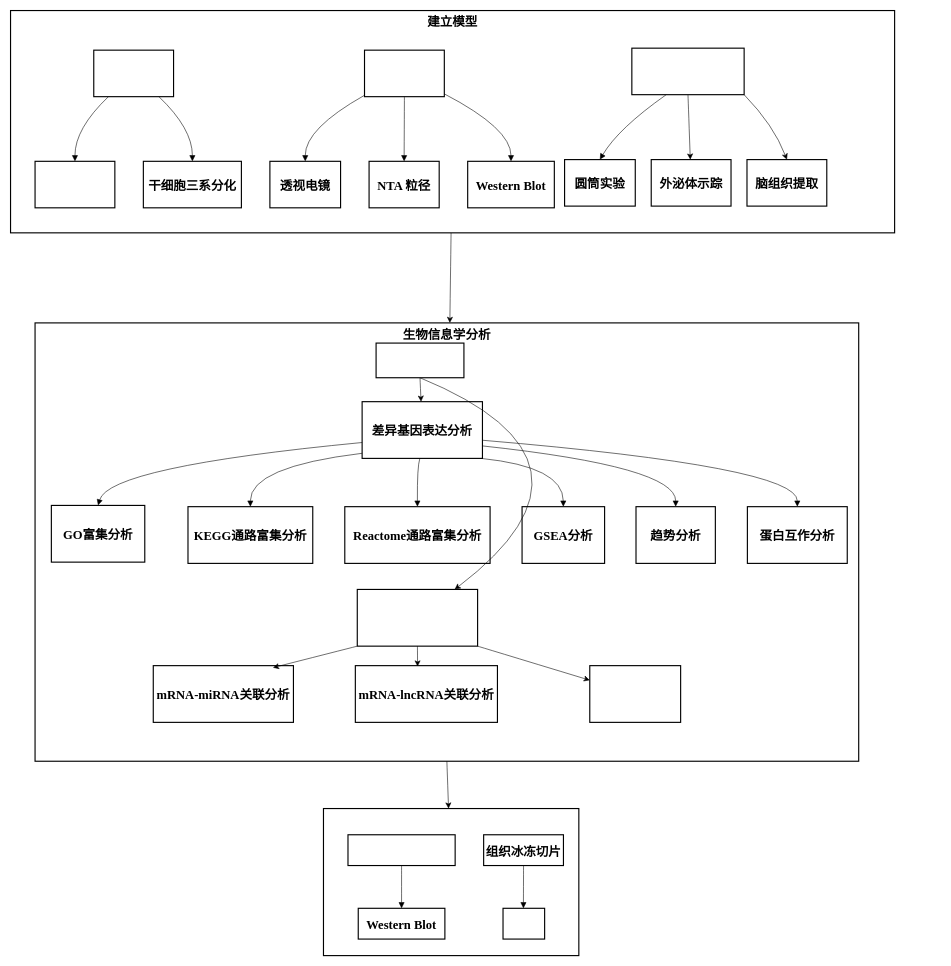
Some shapes in this 951 by 966 pixel diagram are drawn without their labels. The box of each missing label's shape, as (x1, y1, x2, y2) in pixels:
ceRNA 分析: (589, 665, 681, 723)
IF: (502, 907, 545, 939)
全转录组测序: (375, 342, 464, 378)
关联交叉分析: (356, 589, 478, 646)
分子实验验证: (323, 808, 579, 956)
外泌体提取: (364, 49, 445, 97)
小鼠MCAO模型: (631, 47, 744, 95)
干细胞提取: (93, 49, 174, 97)
流式细胞术: (34, 160, 115, 208)
细胞缺氧模型: (347, 834, 455, 866)
